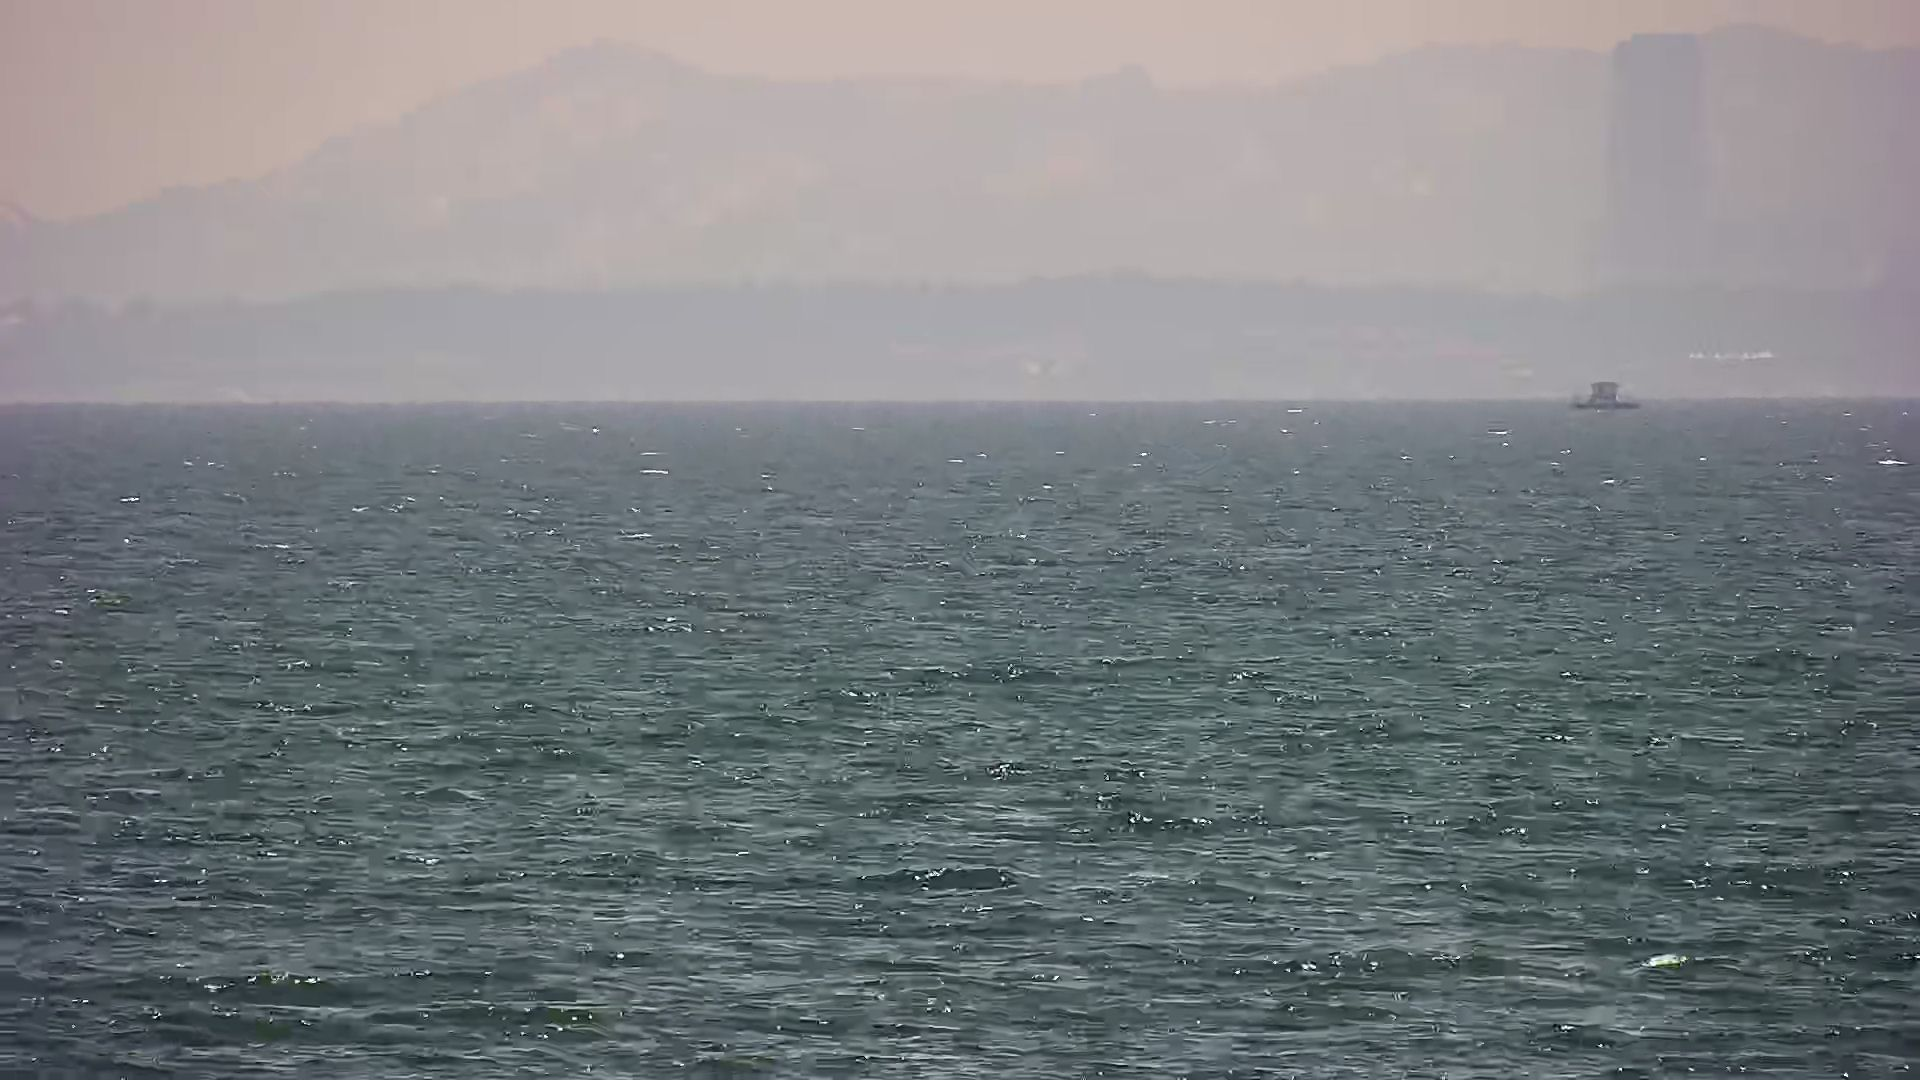platform: (1557, 372, 1658, 419)
